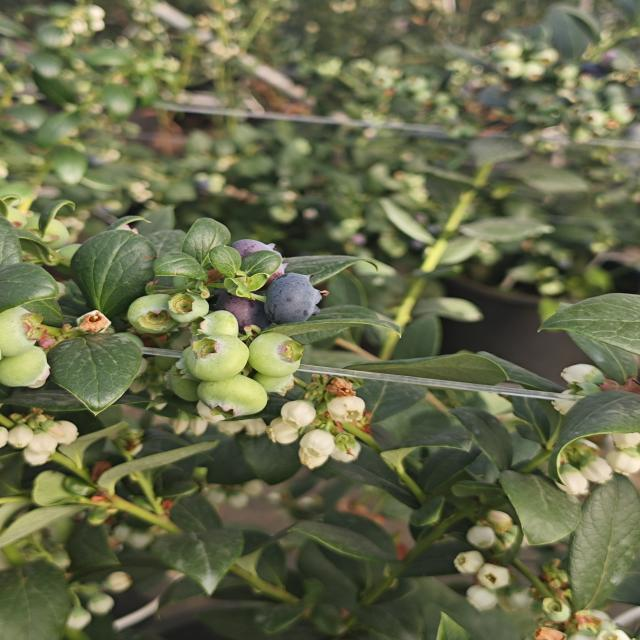ripe: (215, 233, 288, 287), (208, 286, 274, 336), (264, 273, 328, 322)
